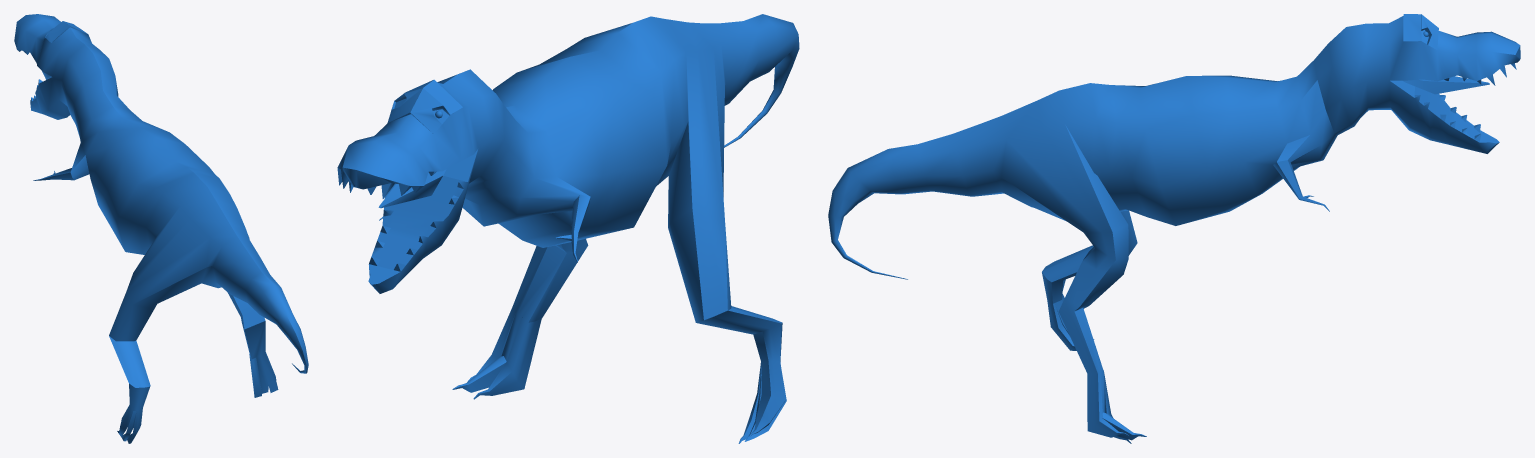
The picture shows the model from 3 angles, left to right: view 1: azimuth 30°, elevation 25°; view 2: azimuth 150°, elevation 25°; view 3: azimuth 270°, elevation 25°; orthographic projection. The views are drawn at different scales.
Visible parts, largest first — view 1: split_parent_0; view 2: split_parent_0; view 3: split_parent_0.
Boxes of the visible parts, x1,y1,x2,y2 form: split_parent_0: [14, 14, 308, 443]; split_parent_0: [337, 14, 799, 443]; split_parent_0: [828, 14, 1520, 443].
Bounding box in the file's own units: 0.3697 × 0.6066 × 1.
